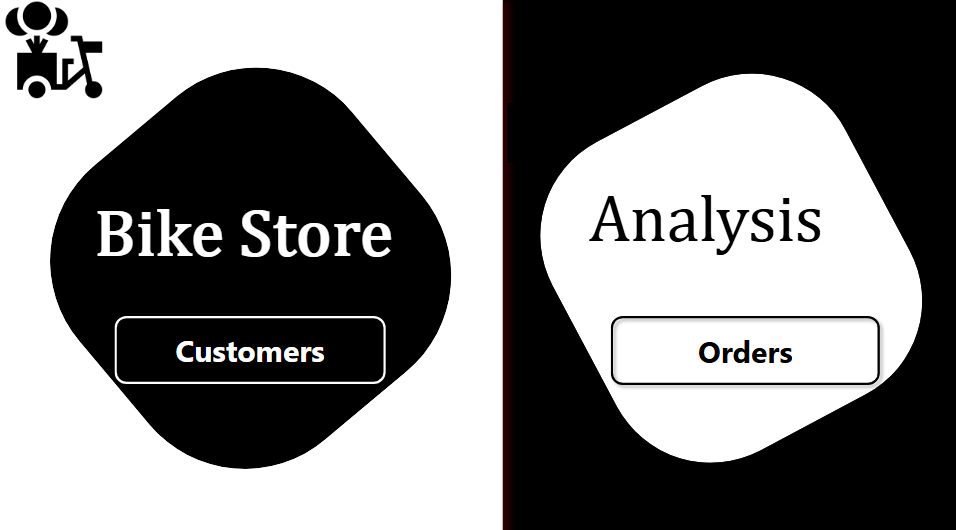

Layout of this report page (visuals, bound fields, positions):
{"tool":"powerbi","page":{"name":"Home","canvas":[1280,720],"ordinal":0},"visuals":[{"type":"group","id":"g1","title":"Group 1","box":[0,0,1280.3,720.6],"z":0},{"type":"shape","box":[671.1,0,609.2,720.6],"z":0,"group":"g1"},{"type":"shape","box":[0,0,671.1,720.6],"z":1000,"group":"g1"},{"type":"textbox","box":[781.7,244.1,380.6,187.7],"z":1000},{"type":"textbox","box":[122.4,262.7,426.3,116.9],"z":2000},{"type":"actionButton","title":"Customers","box":[145.8,415.3,379.5,108.6],"z":3000},{"type":"actionButton","title":"Customers","box":[807.2,415.3,376.8,110],"z":4000},{"type":"textbox","box":[678.6,139.5,64.3,79.9],"z":5000},{"type":"image","box":[0,0,145.8,138.9],"z":6000}]}

Visuals, with their boxes in screenshot pixels (x1, y1, x2, y2), scaled from the page's 1280x720 canvas onto the 956x530 screenshot:
"Group 1" group: Rect(0, 0, 955, 529)
shape: Rect(501, 0, 955, 529)
shape: Rect(0, 0, 501, 529)
textbox: Rect(584, 180, 868, 318)
textbox: Rect(91, 193, 410, 279)
"Customers" actionButton: Rect(109, 306, 392, 386)
"Customers" actionButton: Rect(603, 306, 884, 387)
textbox: Rect(507, 103, 555, 162)
image: Rect(0, 0, 109, 102)
